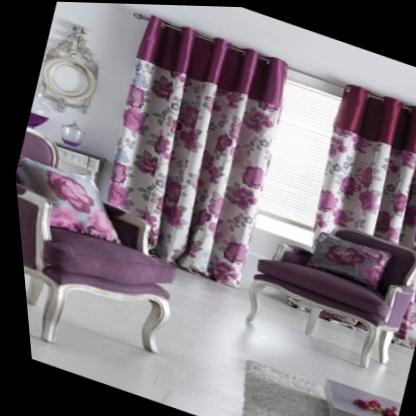Curtains: (100, 15, 416, 288)
